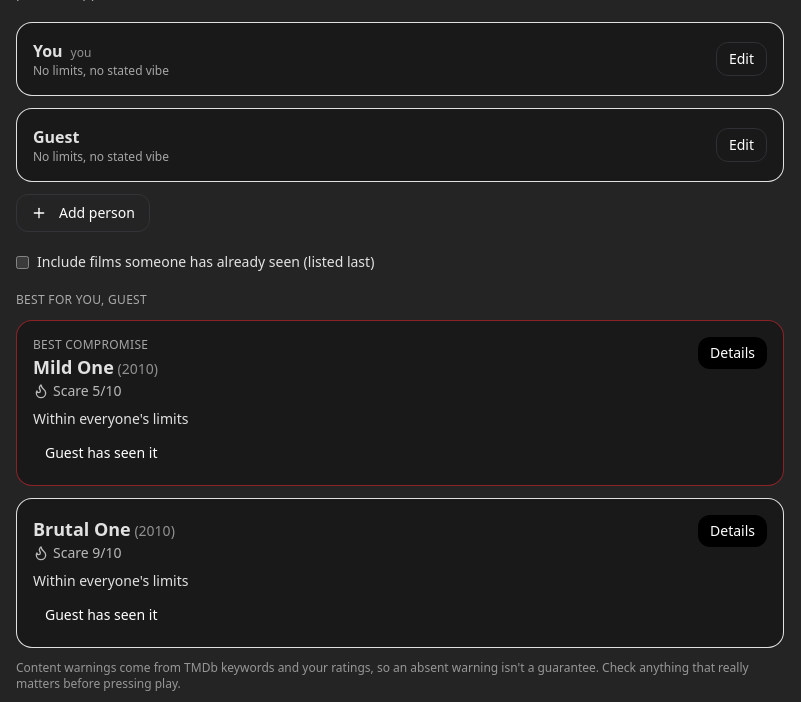
Test: Group night › a guest's scare limit rules films out, and the panel says why
Step 1. Click the 2nd button "Edit" → (741, 145), box [716,128,767,162]
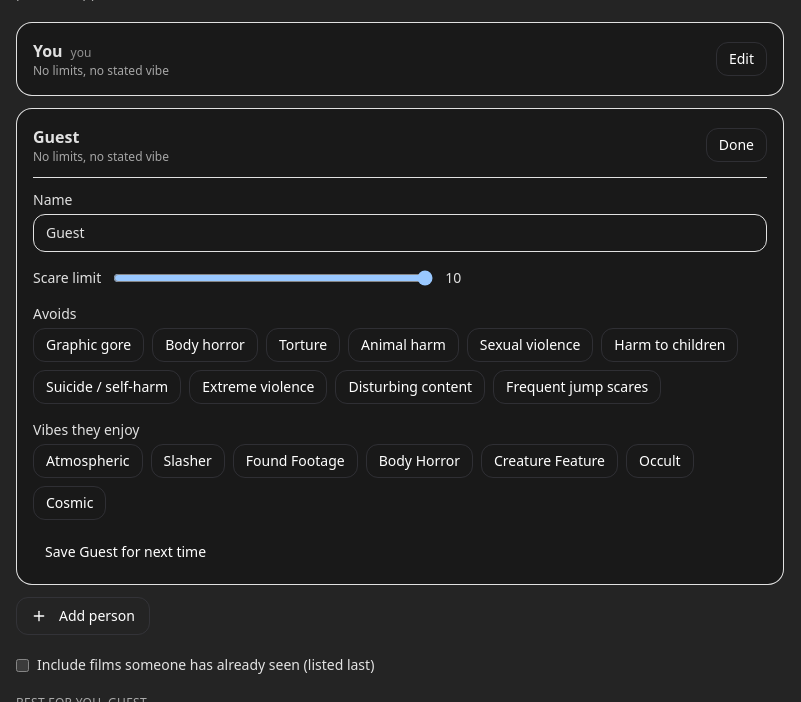
Step 2. Set the slider labelled "Scare limit" to "6" → (304, 278), box [113,270,433,286]
(page scrolled)
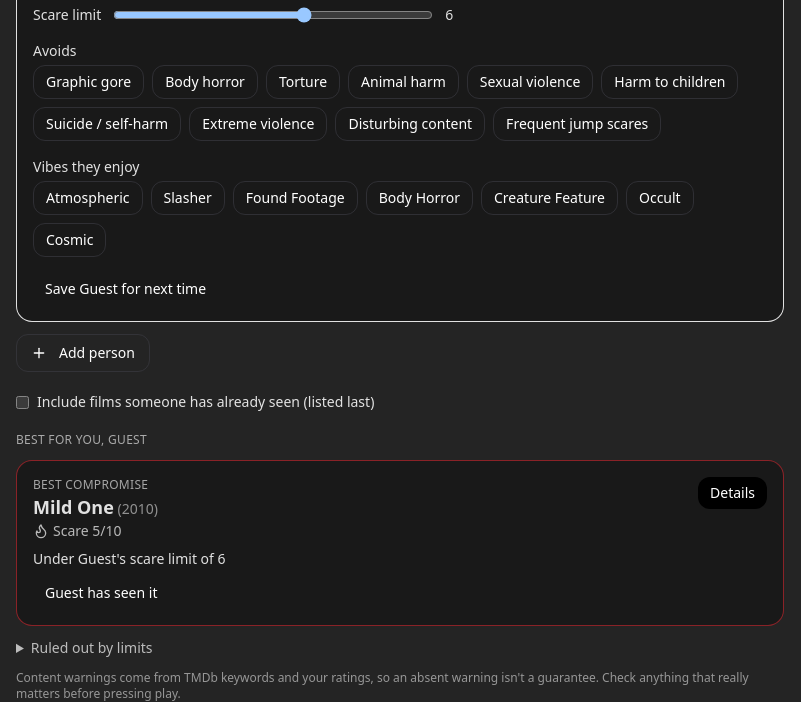
Step 3. Click the heading "Ruled out by limits" → (92, 648), box [31,638,152,657]
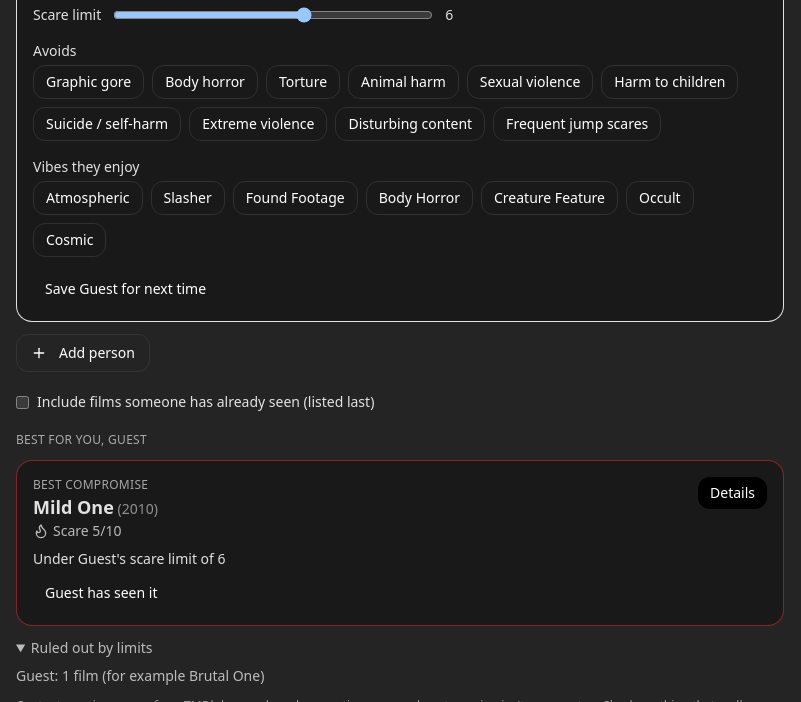
Expected: the list item "Guest: 1 film (for example Brutal One)" is shown, [16,666,264,685]
